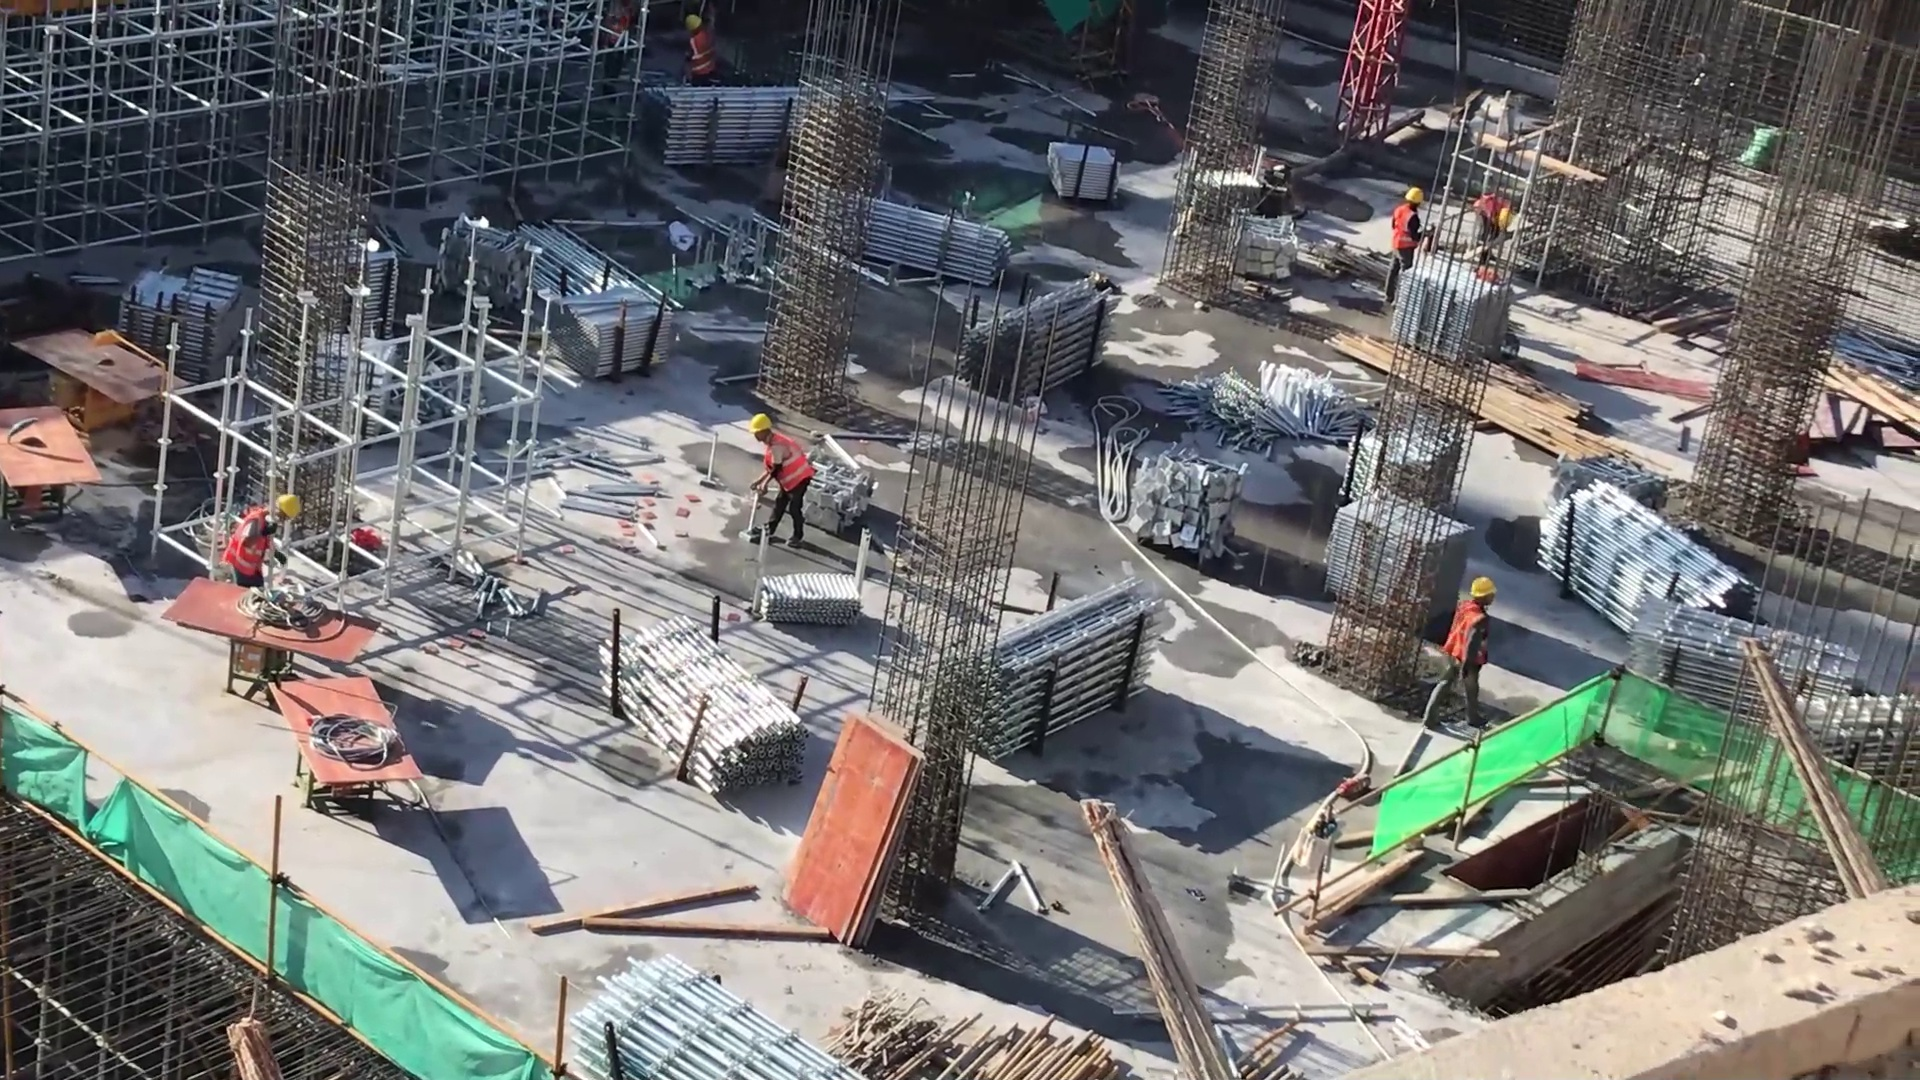board: (782, 713, 936, 960)
cutter: (270, 653, 423, 849), (163, 574, 384, 695), (19, 321, 180, 442), (1, 399, 109, 553)
helmet: (272, 485, 302, 532), (1471, 563, 1498, 615), (1496, 201, 1516, 236), (745, 412, 777, 434), (1404, 182, 1424, 216), (685, 9, 707, 37)
person: (1418, 572, 1504, 733), (743, 406, 816, 558), (215, 490, 301, 591), (1388, 182, 1428, 285), (600, 1, 637, 102), (1475, 190, 1515, 272), (683, 9, 719, 91)
scaffold: (929, 570, 1189, 761), (1532, 477, 1777, 666), (591, 617, 797, 805), (554, 953, 854, 1080), (1630, 591, 1866, 737), (954, 278, 1129, 411), (827, 184, 1005, 296), (119, 256, 263, 379), (653, 79, 850, 167), (509, 220, 667, 320), (545, 290, 674, 376)
vest: (760, 430, 822, 509), (224, 504, 270, 583), (1447, 593, 1488, 675), (1390, 203, 1425, 259), (689, 29, 715, 82)
